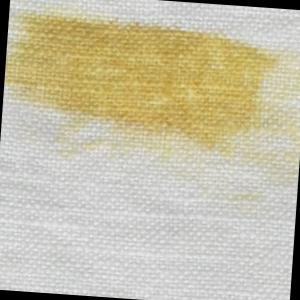Oil Stain: (1, 4, 300, 221)
